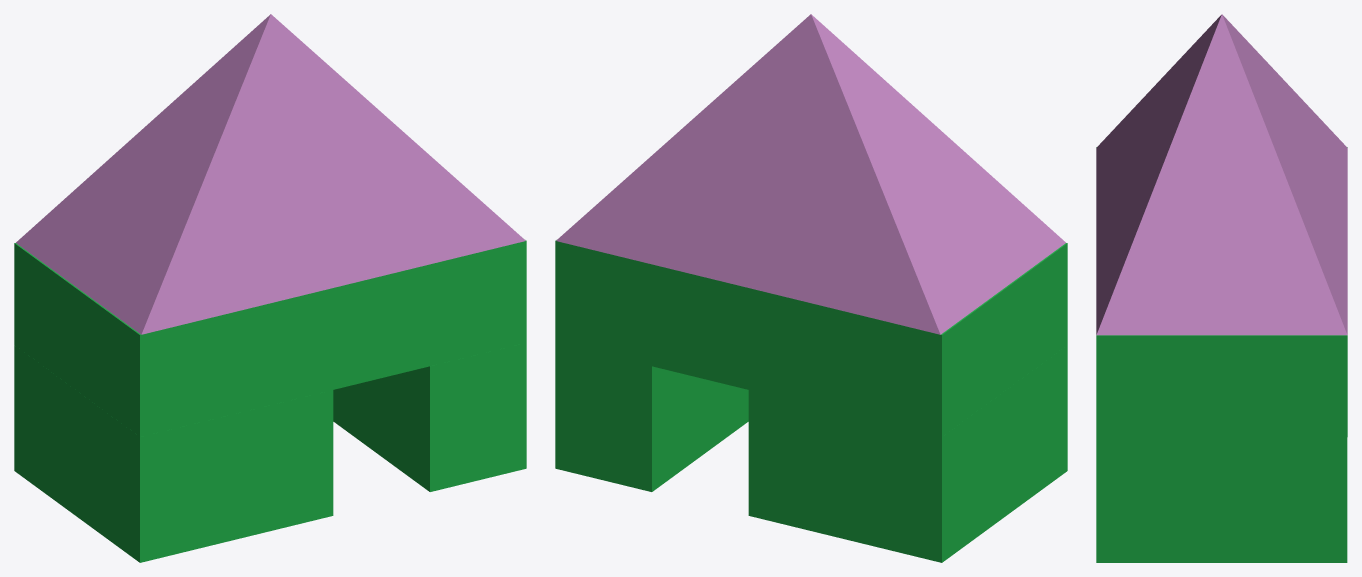
File: house2.glb
3 views of the same model, side by side, from view 1: azimuth 30°, elevation 25°; view 2: azimuth 150°, elevation 25°; view 3: azimuth 270°, elevation 25° (orthographic).
Size of the model in its own units: 0.071 by 0.08 by 0.04.
